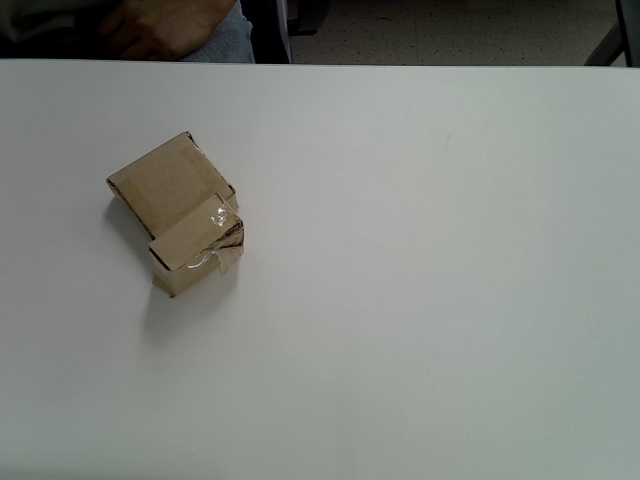defect: (149, 193, 244, 298)
normal: (105, 130, 237, 240)
